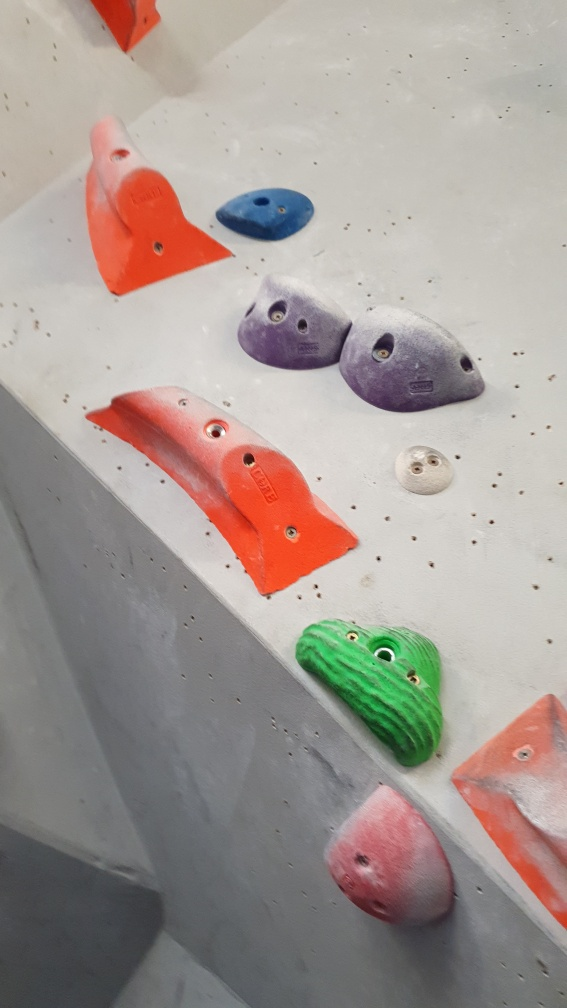Crimp: (214, 184, 320, 247)
Jug: (296, 619, 448, 774), (341, 310, 487, 415), (234, 272, 360, 371)
Pinch: (89, 385, 363, 597), (445, 686, 567, 938), (87, 112, 237, 298)
